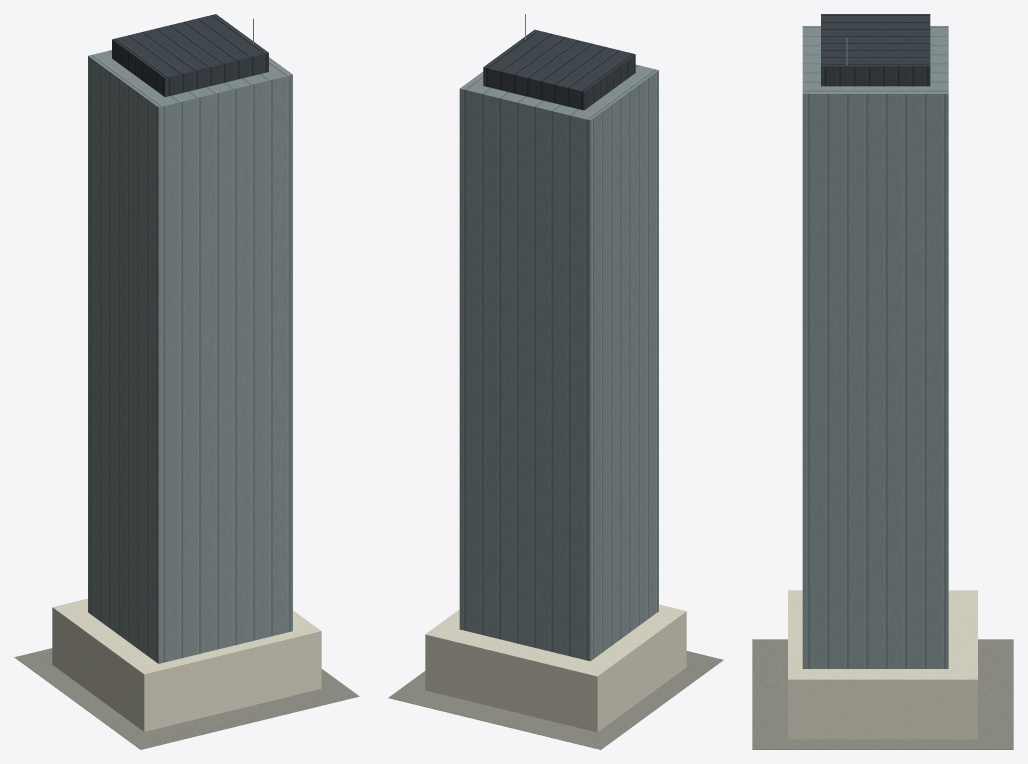
Rendered from office_tower_001.lod2.obj.
The picture shows the model from 3 angles, left to right: view 1: azimuth 30°, elevation 25°; view 2: azimuth 150°, elevation 25°; view 3: azimuth 270°, elevation 25°; orthographic projection. The views are drawn at different scales.
Parts seen in each view (by area): view 1: office_tower_001.lod2; view 2: office_tower_001.lod2; view 3: office_tower_001.lod2.
Part boxes in pixels (bbox=[...]): office_tower_001.lod2: bbox=[14, 14, 359, 749]; office_tower_001.lod2: bbox=[388, 14, 723, 749]; office_tower_001.lod2: bbox=[752, 14, 1013, 749].
Bounding box in the file's own units: 35.8 × 103 × 35.8.
1 material, 1 textured.
